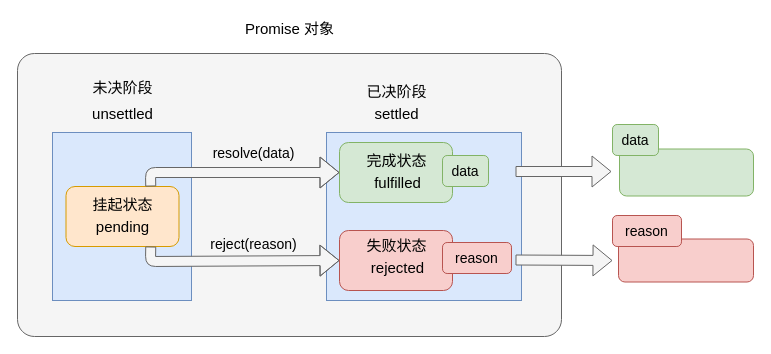
The diagram is 771 pixels wide and 354 high, and some of its shapes have lost their labels. The centre of each missing label's shape, as x and y in pixels:
onFulfilled: (686,172)
onRejected: (686,260)
